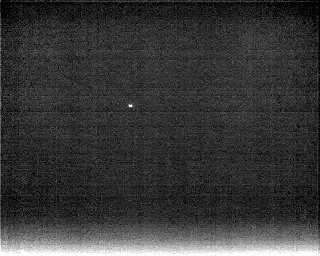AIRPLANE: (126, 101, 135, 109)
